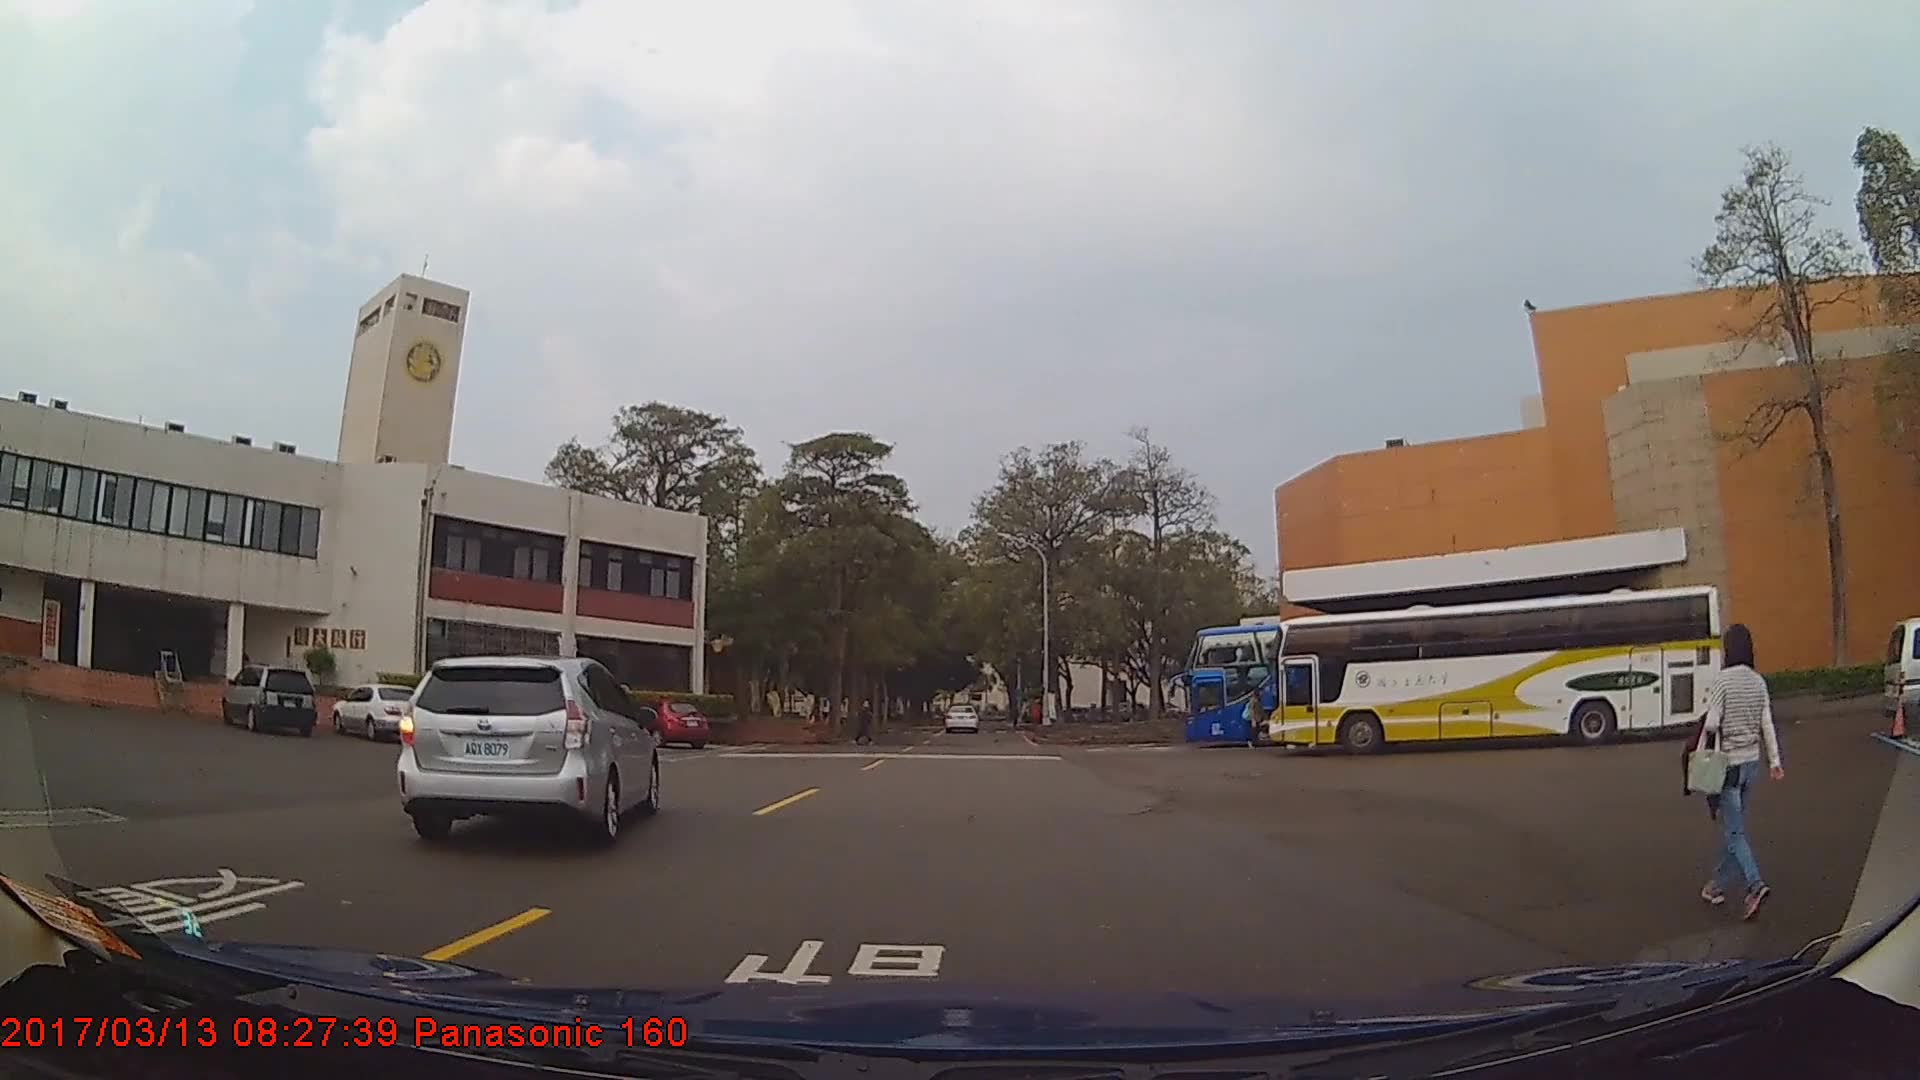pedestrian: (1684, 618, 1782, 910), (852, 689, 876, 742)
vehicle: (1267, 581, 1725, 753), (399, 652, 656, 846), (1184, 624, 1580, 745), (217, 661, 316, 733), (330, 680, 427, 737), (1880, 615, 1920, 730), (631, 693, 709, 745), (944, 704, 979, 734)
